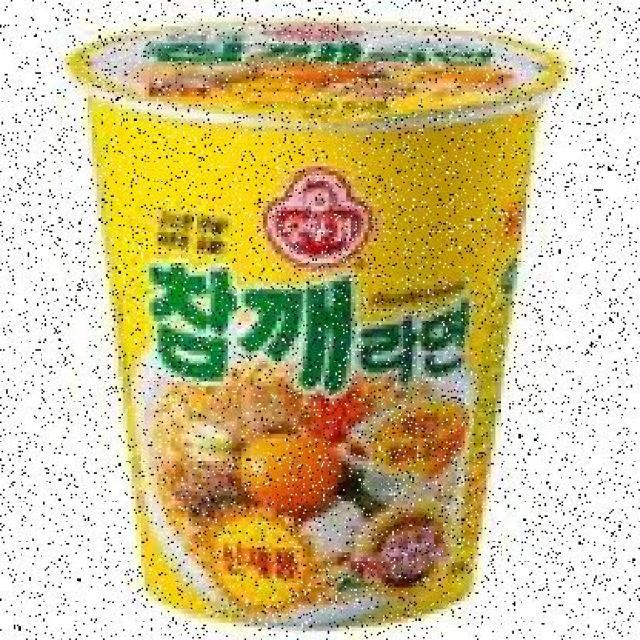Miscellaneous: (69, 23, 562, 637)
